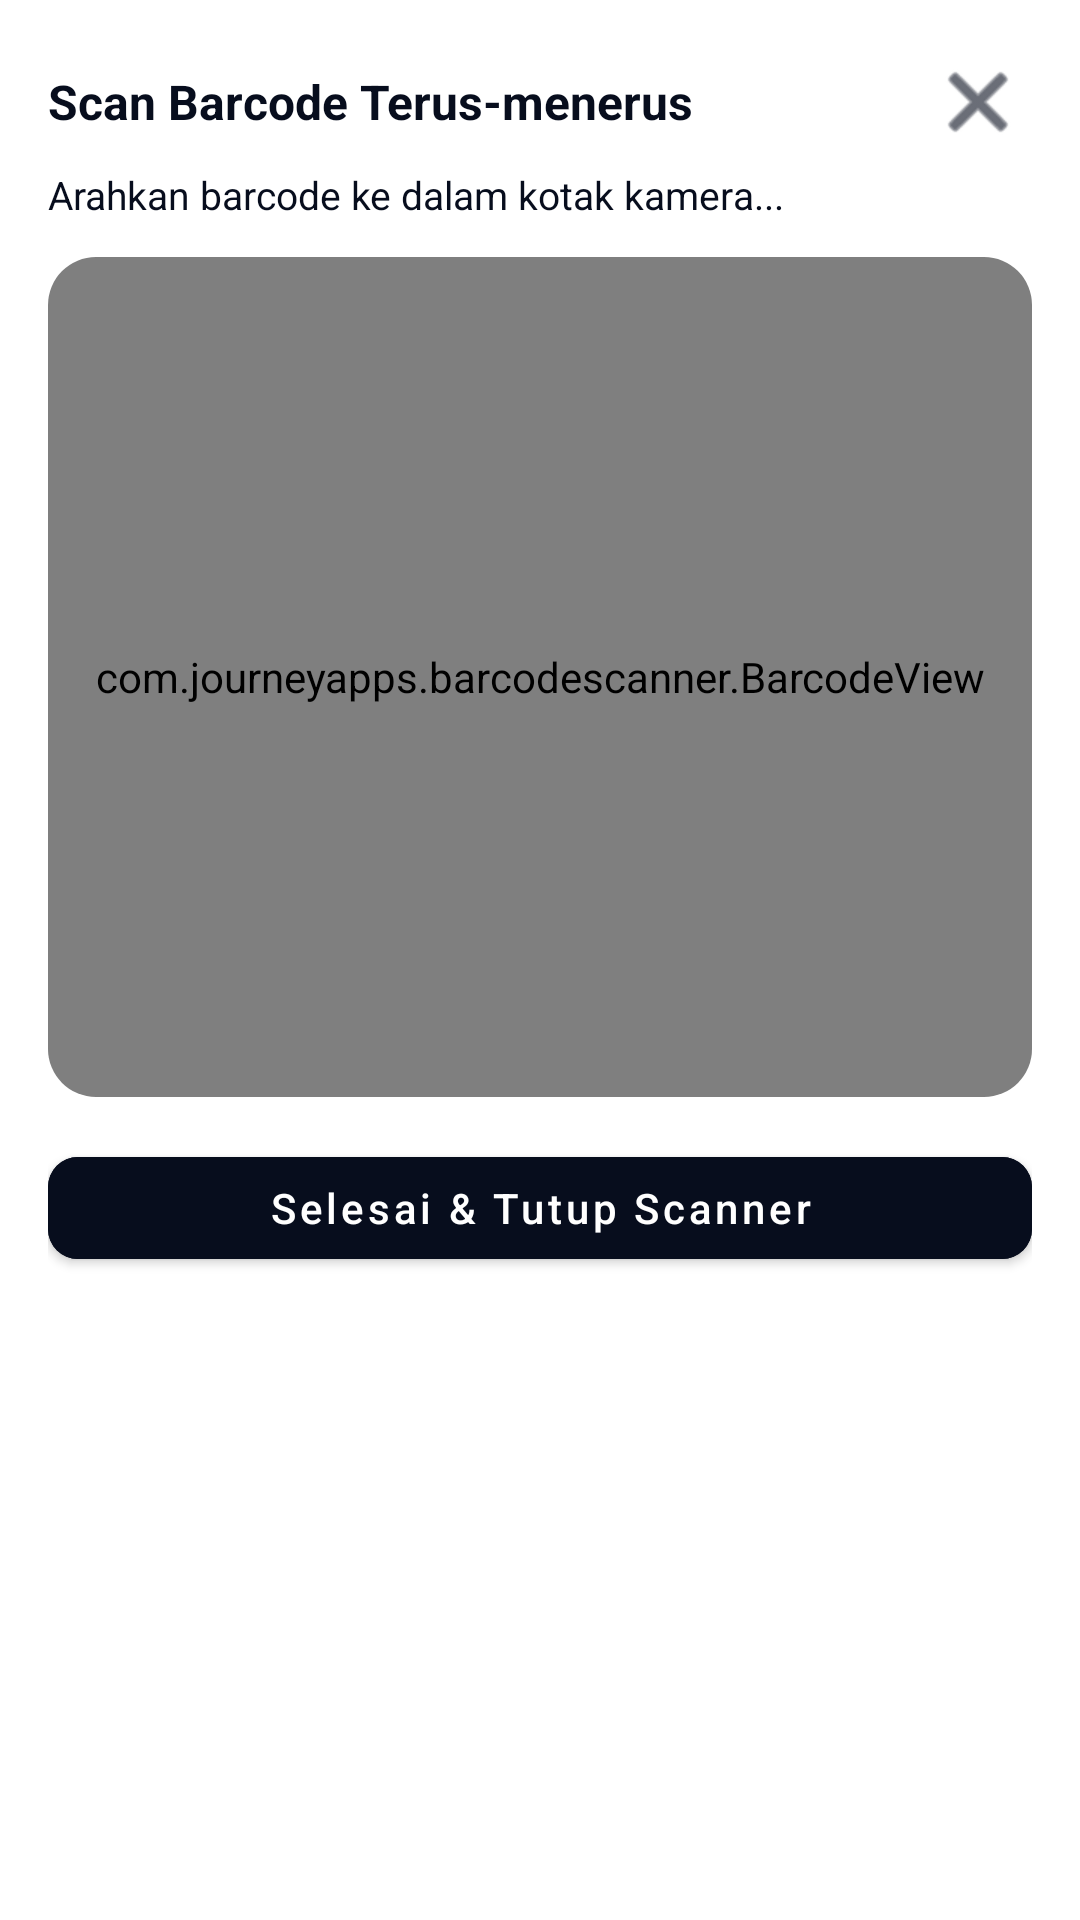

Icon bounding boxes for this 1080px×1920px phone screenshot, format (x1, y1, x2, y2):
close clear cancel: (948, 72, 1008, 132)
